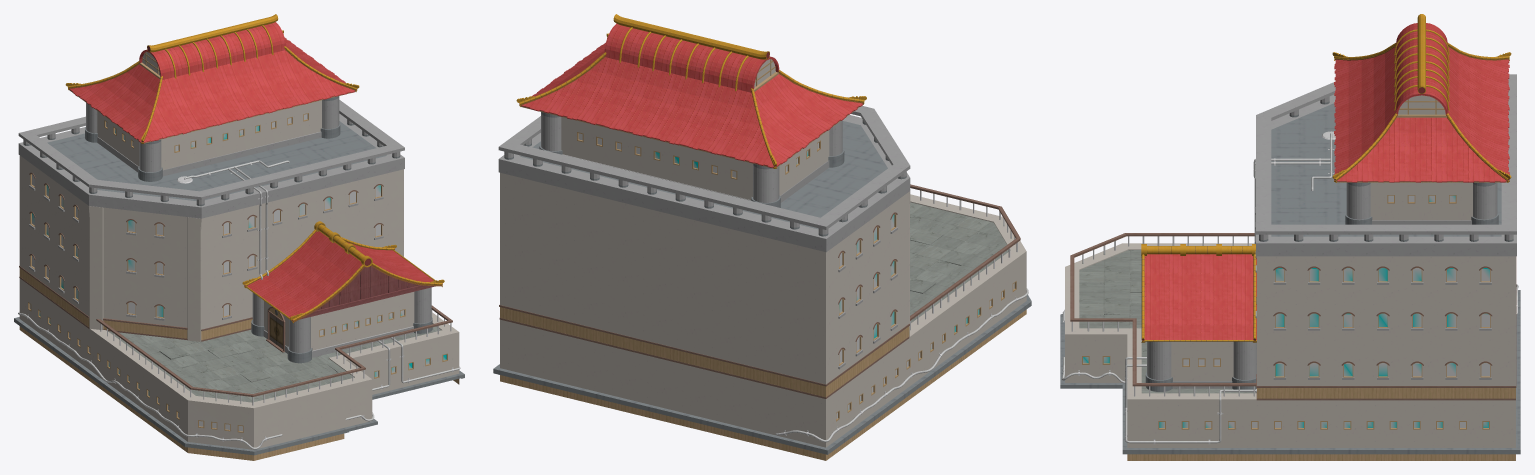
The model's file is SM_ENV_KNVLLG_AreaC_Building_A.fbx.
The picture shows the model from 3 angles, left to right: view 1: azimuth 30°, elevation 25°; view 2: azimuth 150°, elevation 25°; view 3: azimuth 270°, elevation 25°; orthographic projection. The views are drawn at different scales.
Visible parts, largest first — view 1: SM_ENV_KNVLLG_AreaC_Building_A.mo; view 2: SM_ENV_KNVLLG_AreaC_Building_A.mo; view 3: SM_ENV_KNVLLG_AreaC_Building_A.mo.
Part boxes in pixels (box(x1,y1,x2,y2)): SM_ENV_KNVLLG_AreaC_Building_A.mo: box(14, 14, 464, 460); SM_ENV_KNVLLG_AreaC_Building_A.mo: box(493, 14, 1031, 460); SM_ENV_KNVLLG_AreaC_Building_A.mo: box(1060, 14, 1520, 460).
Size of the model in its own units: 8068 by 8027 by 9804.
